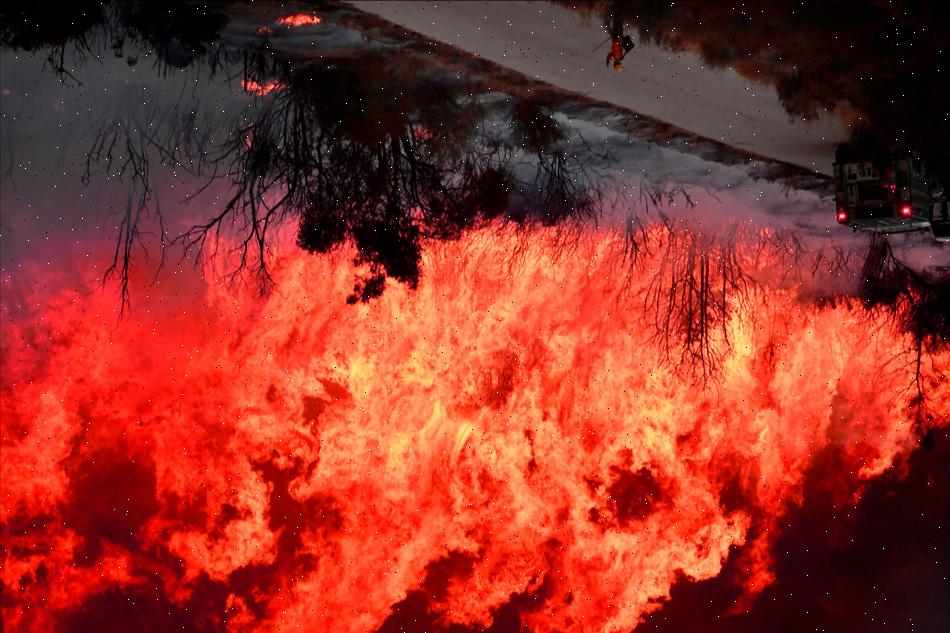fire: (0, 150, 950, 633)
